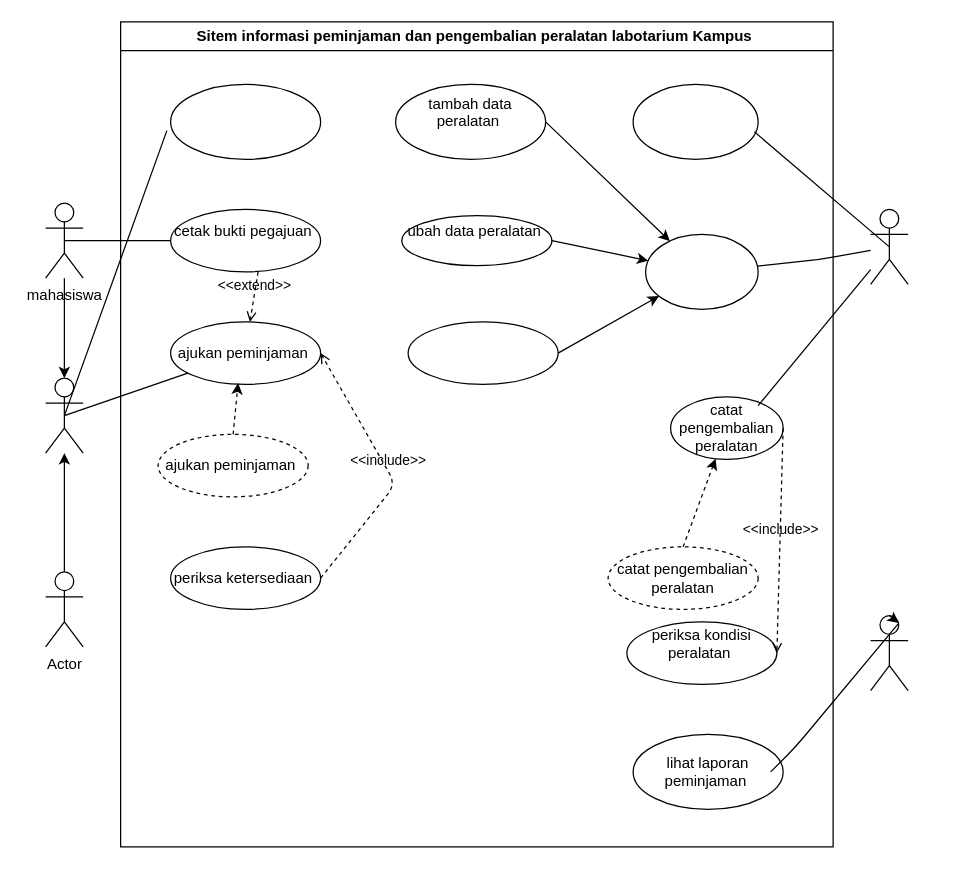
Some shapes in this 975 by 869 pixel diagram are drawn without their labels. The shapes that lost their labels are listed below. From the top down, each one's centre as x and y in pixels, then its label:
At [245,121]: "Lihat ketersediaan peralatan".
At [695,121]: "proses keputusan peminjaman".
At [888,246]: "petugas labotarium".
At [701,271]: "kelola data peralatan".
At [482,352]: "hapus data peralatan".
At [63,415]: "peminjaman".
At [888,652]: "kepala labotarium".
